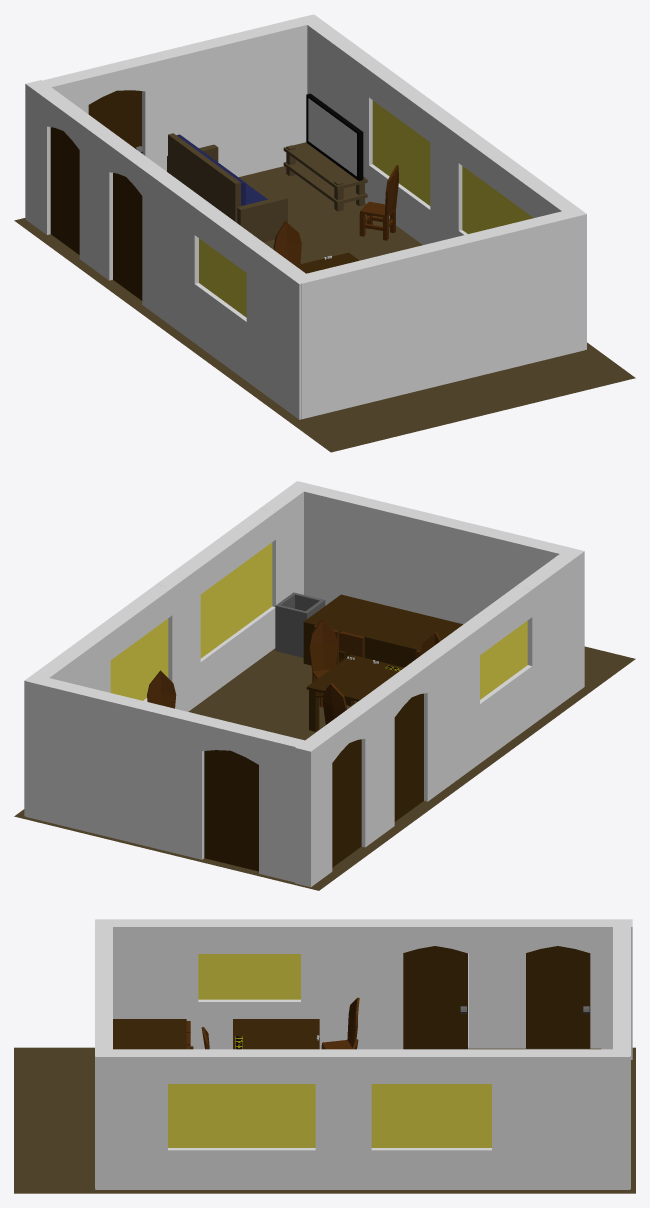
Rendered from SM_Big Table.fbx.
3 views of the same model, one above another, from view 1: azimuth 30°, elevation 25°; view 2: azimuth 150°, elevation 25°; view 3: azimuth 270°, elevation 25° (orthographic).
Visible parts, largest first — view 1: Big Table, Big Table.001; view 2: Big Table, Big Table.001; view 3: Big Table, Big Table.001.
Part boxes in pixels (bbox=[...]): Big Table: bbox=[14, 14, 635, 452]; Big Table.001: bbox=[295, 252, 359, 273]; Big Table: bbox=[14, 481, 635, 890]; Big Table.001: bbox=[306, 654, 403, 701]; Big Table: bbox=[14, 919, 635, 1193]; Big Table.001: bbox=[233, 1019, 319, 1049].
Bounding box in the file's own units: 24225 × 10399 × 43603.
